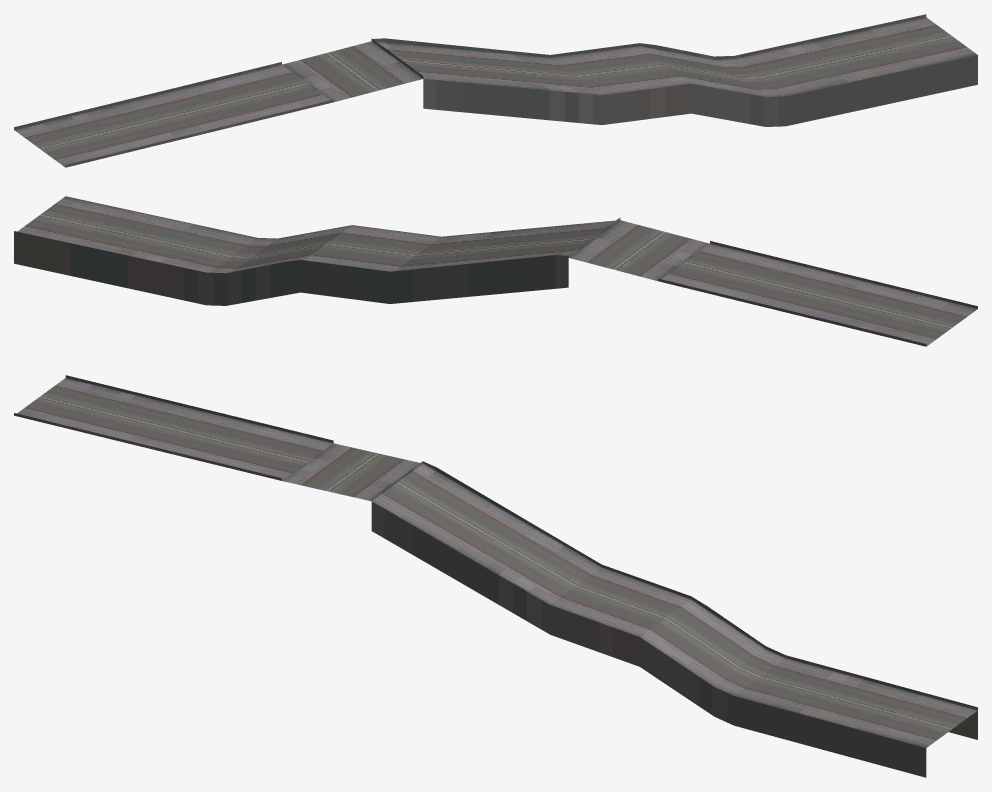
File: lodroads_sfw37.obj
3 views of the same model, one above another, from view 1: azimuth 30°, elevation 25°; view 2: azimuth 150°, elevation 25°; view 3: azimuth 330°, elevation 25° (orthographic).
Visible parts, largest first — view 1: LODroads_sfw37; view 2: LODroads_sfw37; view 3: LODroads_sfw37.
Boxes of the visible parts, <box> form: LODroads_sfw37: <box>14,14,977,167</box>; LODroads_sfw37: <box>14,196,977,346</box>; LODroads_sfw37: <box>14,375,977,777</box>.
Bounding box in the file's own units: 204 × 30.78 × 20.02.
Materials: 1 (1 with a texture image).
